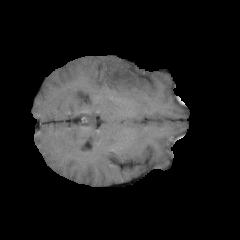glioma: (106, 61, 145, 95)
